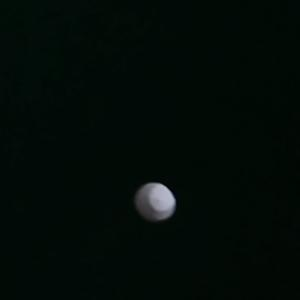ball: (133, 182, 179, 225)
